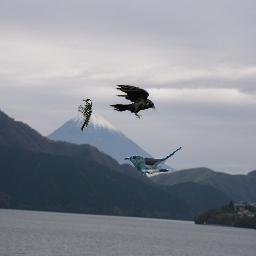Crow: (108, 84, 156, 119)
Cuckoo: (124, 146, 183, 175)
Woodpecker: (78, 99, 92, 132)
